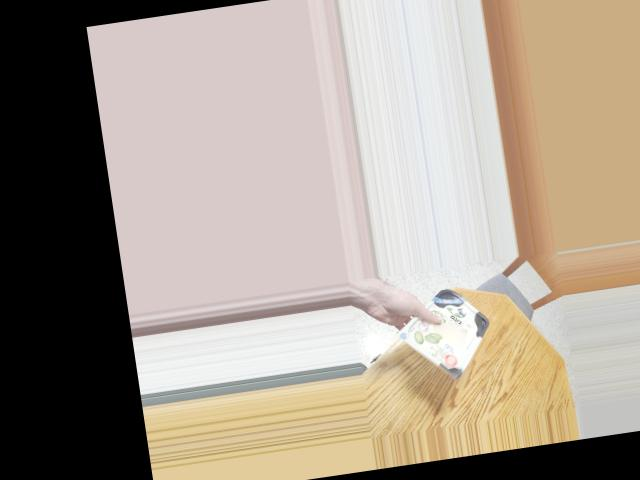cheese: (408, 284, 486, 372)
